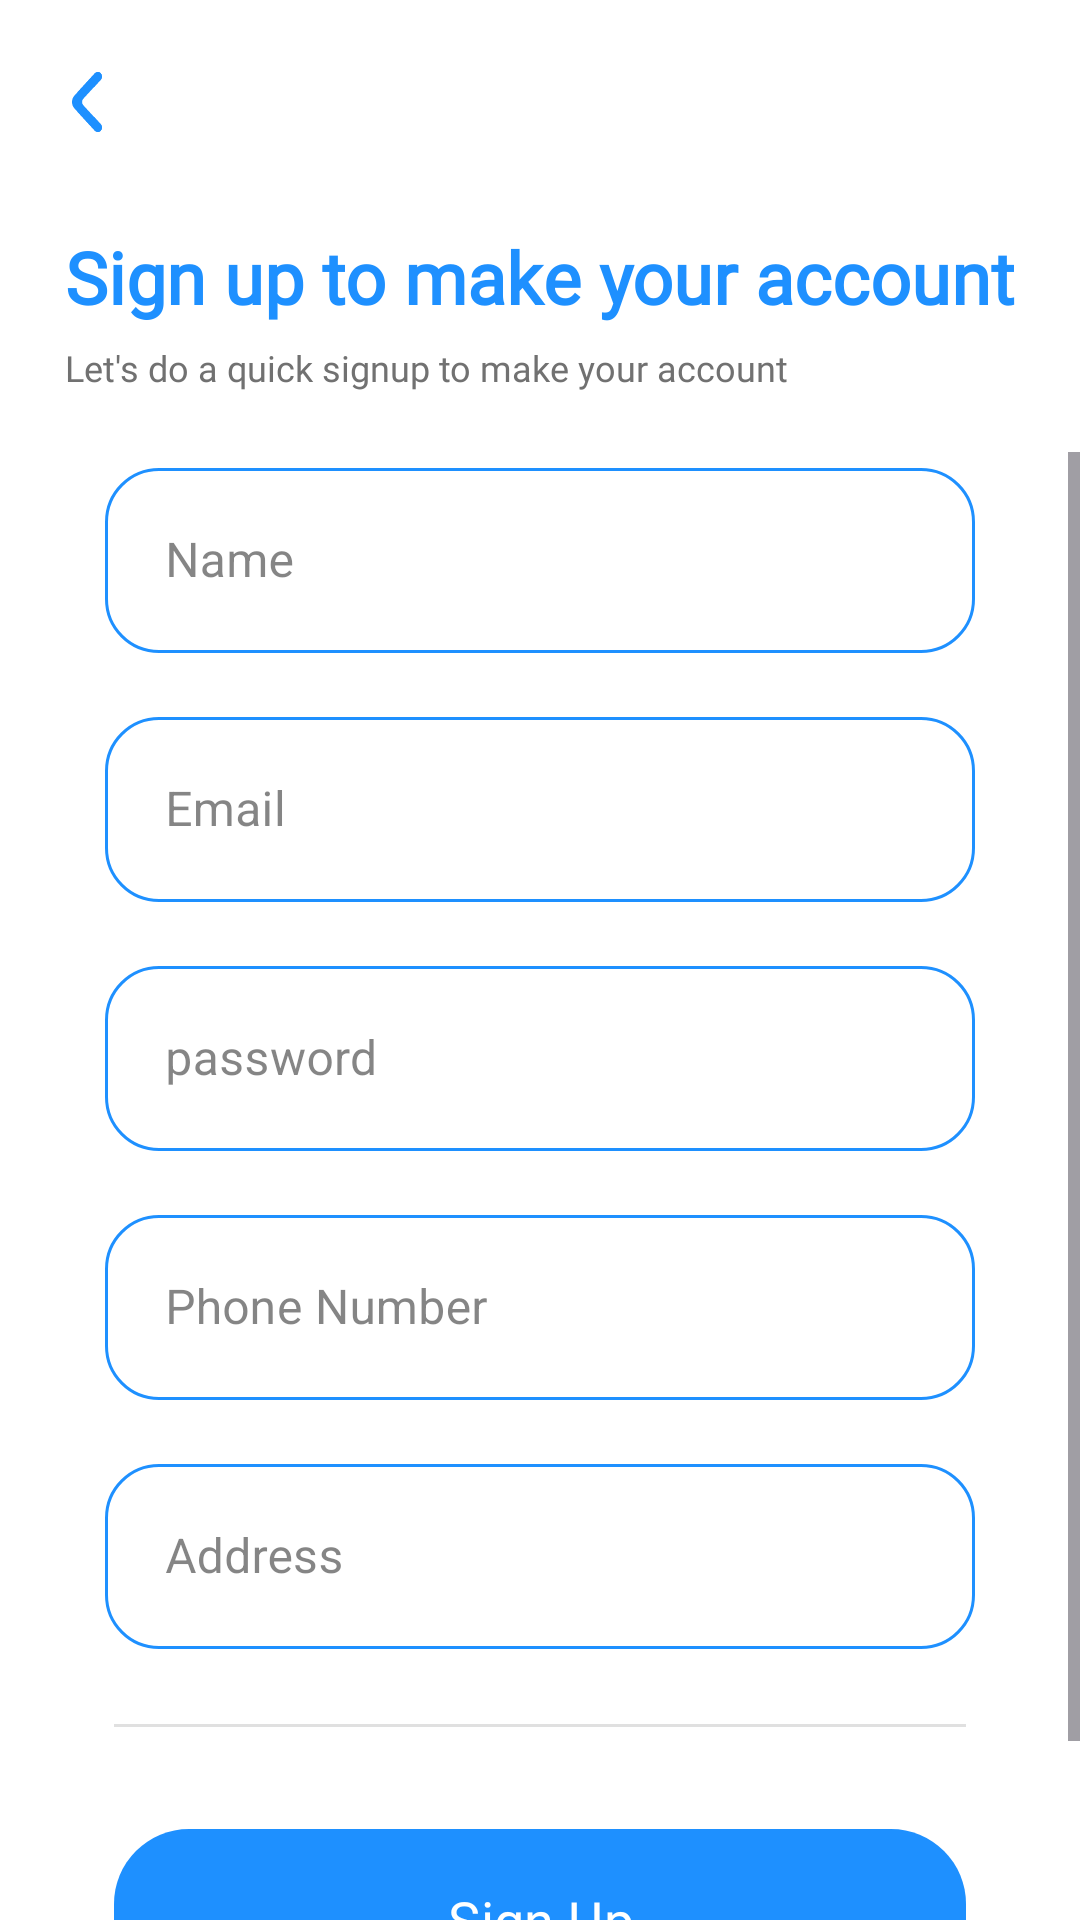

Icons on this 1080px×1920px Android screen, each with its box as bbox=(x1, y1, x2, y2):
back: bbox=(72, 72, 102, 132)
